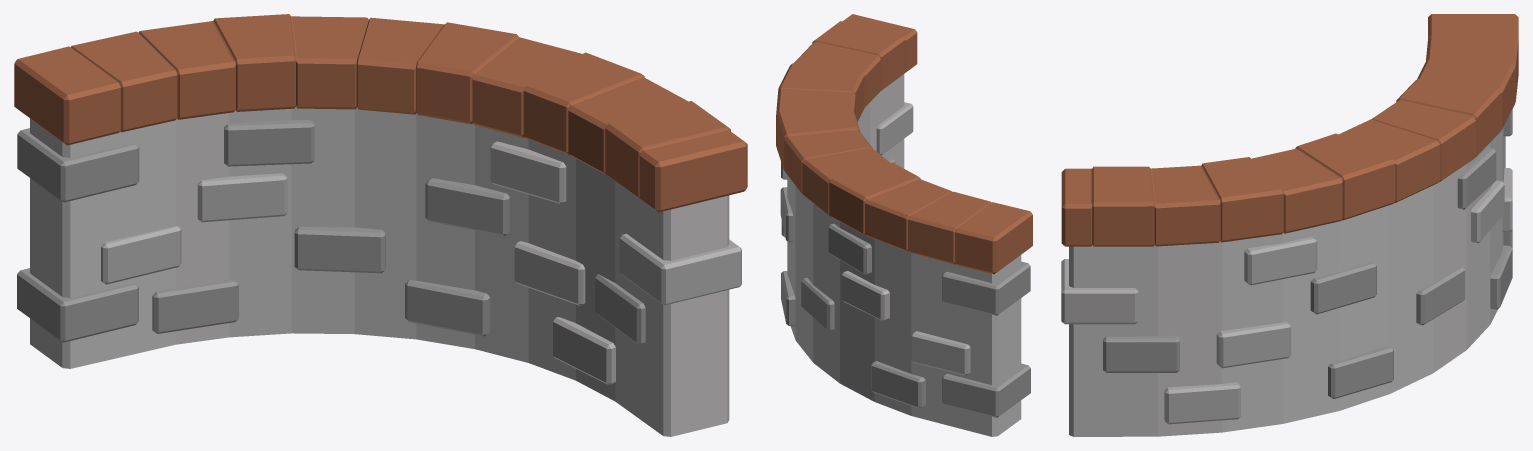
Rendered from SM_Wall_2.fbx.
3 renders of one model, left to right at view 1: azimuth 30°, elevation 25°; view 2: azimuth 150°, elevation 25°; view 3: azimuth 270°, elevation 25°, orthographic. The views are drawn at different scales.
Parts seen in each view (by area): view 1: SM_Wall_2_LOD0; view 2: SM_Wall_2_LOD0; view 3: SM_Wall_2_LOD0.
Boxes of the visible parts, x1,y1,x2,y2 form: SM_Wall_2_LOD0: (14,14,747,436); SM_Wall_2_LOD0: (776,14,1032,436); SM_Wall_2_LOD0: (1061,14,1518,436).
Size of the model in its own units: 339 by 339 by 196.
Materials: 1 (1 with a texture image).
